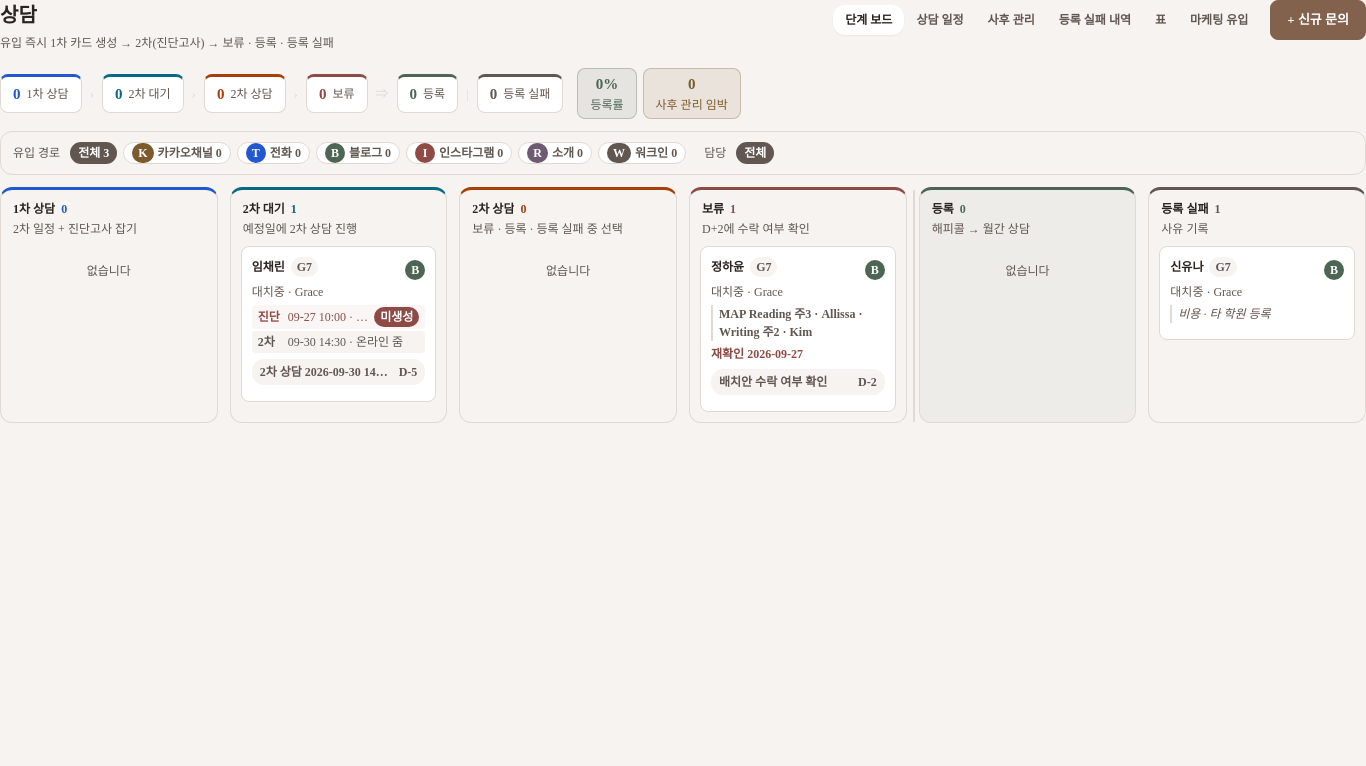
상세 서랍 — 배치안 · 연장 +2일 · 일정 · 스케줄에 만들기 › 배치안을 고쳐 저장하면 과목 · 주 N회 · 강사만 보낸다(단가는 보내지 않는다) · 「연장 +2일」은 서버에 묻는다
The image size is (1366, 766).
Expected: the text "정하윤" is shown, [711,258,744,276]
Click the button that starts with "정하윤". click: (798, 328)
box: [711,256,885,400]
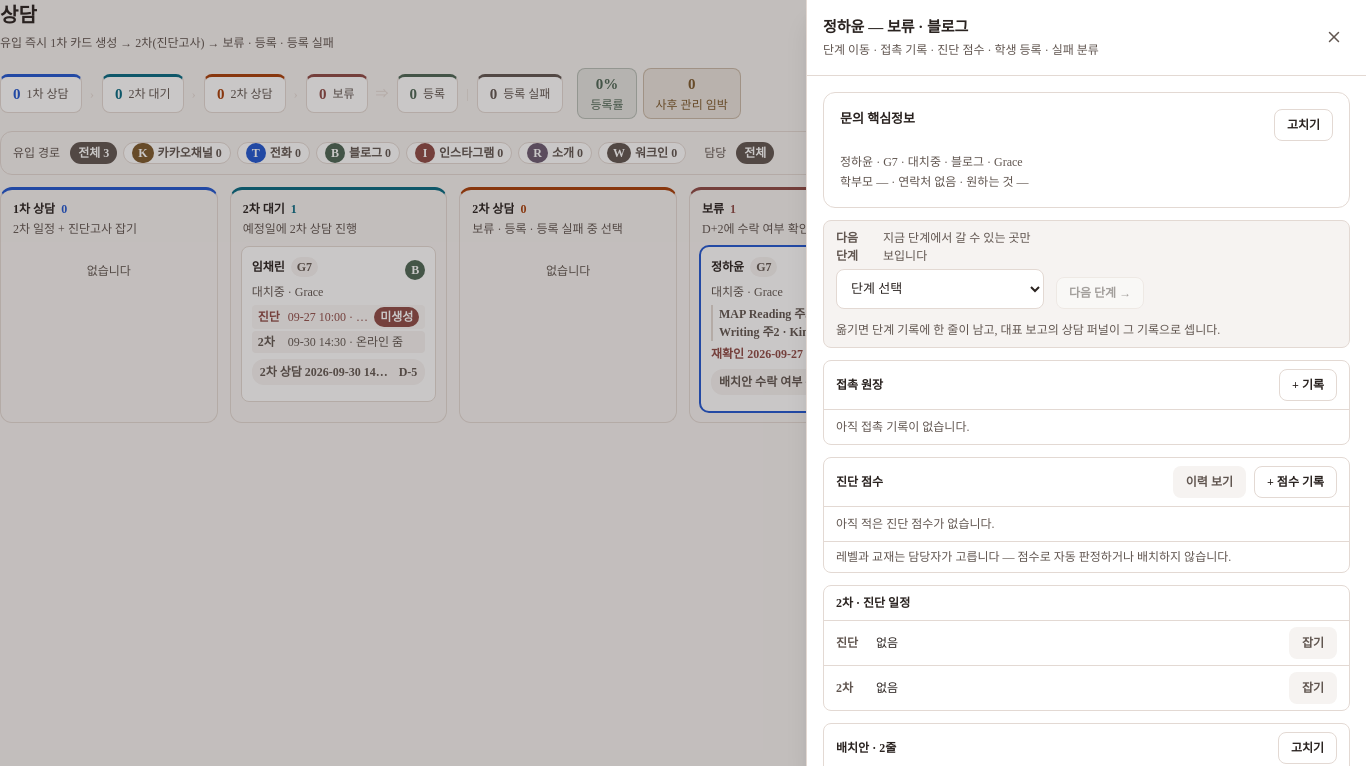
Click the button "고치기" in the row of "· 2줄". click: (1307, 748)
box: [1278,732,1337,764]
(page scrolled)
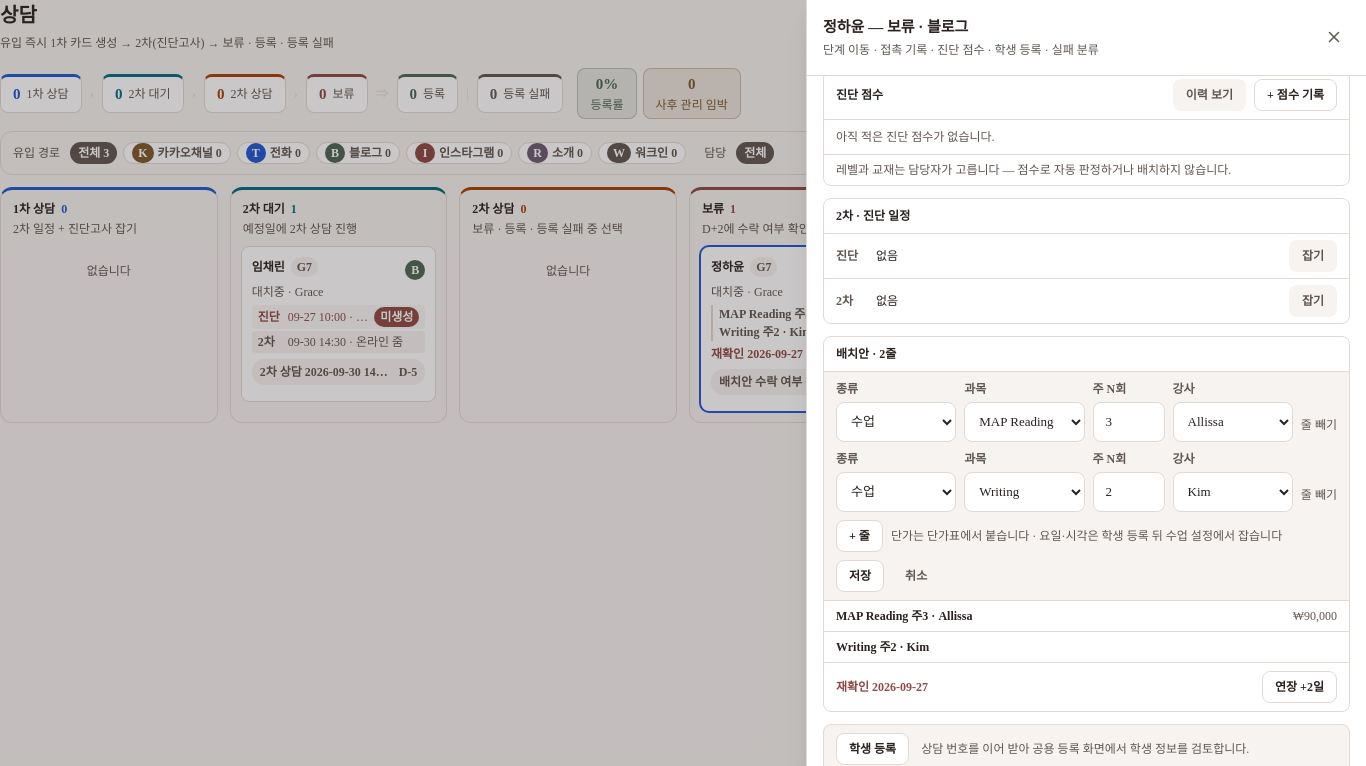
Expected: the dropdown named "배치안 1 종류" shows "수업", [836,402,956,442]
Replace the text in the number field named "배치안 1 주 N회" with "4". click: (1129, 422)
box: [1093,402,1165,442]
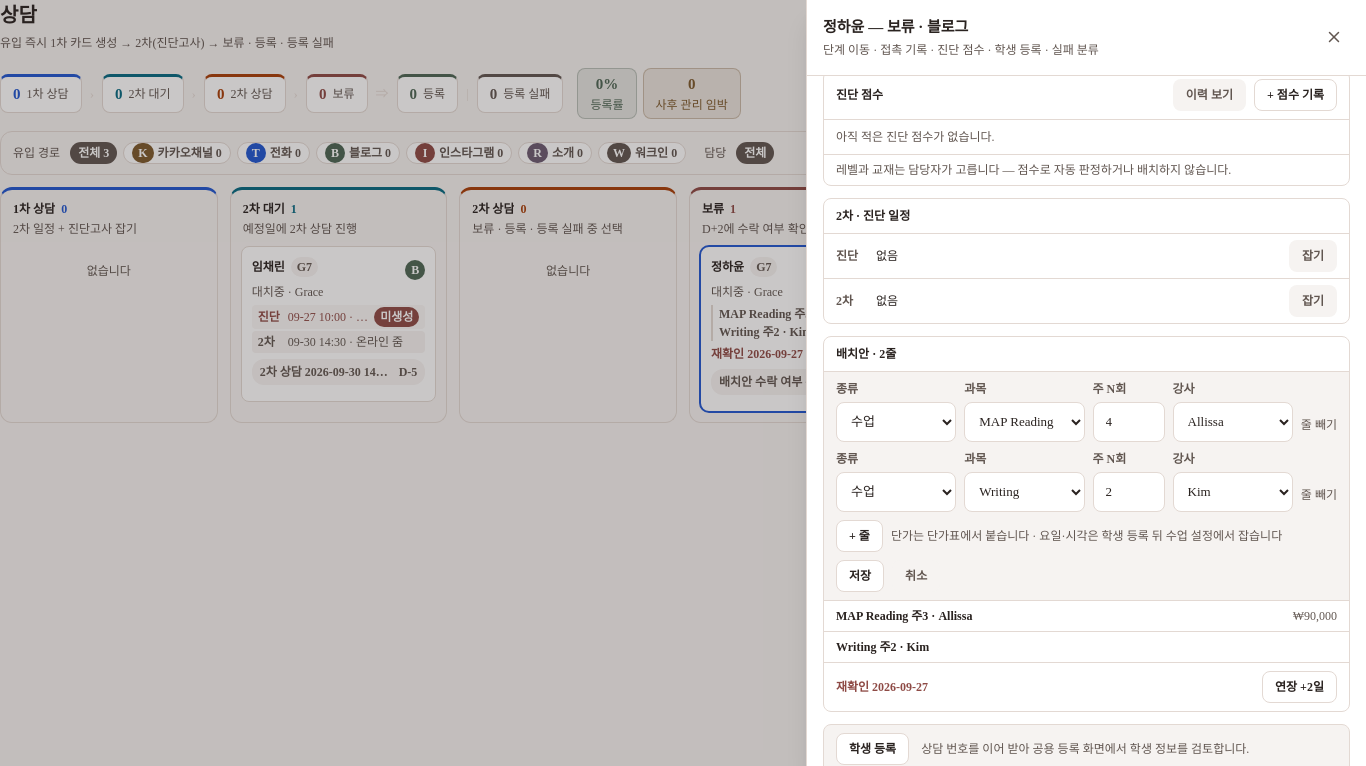
Click the button "저장". click: (860, 576)
box: [836,560,884,592]
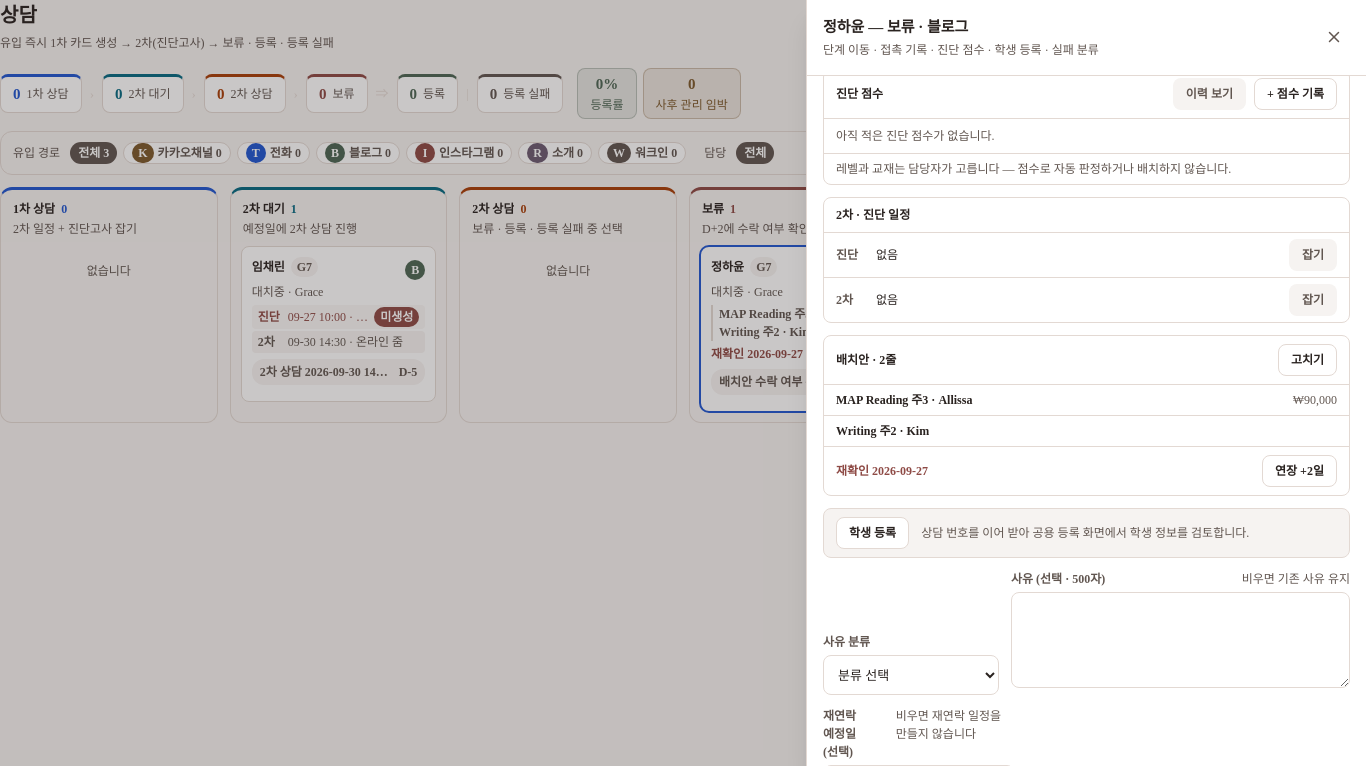
Click the button "연장 +2일". click: (1300, 471)
box: [1262,455,1337,487]
(page scrolled)
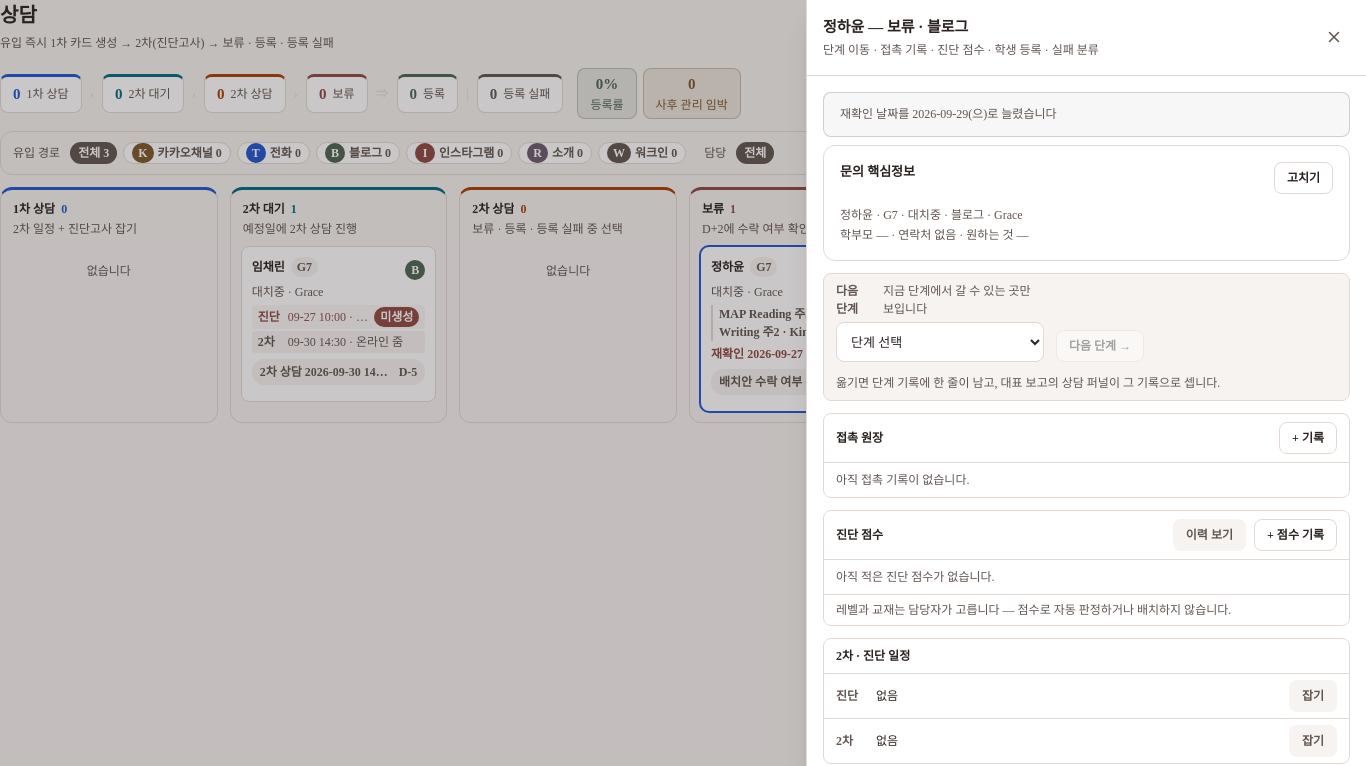
Expected: the text "재확인 날짜를 2026-09-29(으)로 늘렸습니다" is shown, [823,92,1350,137]
